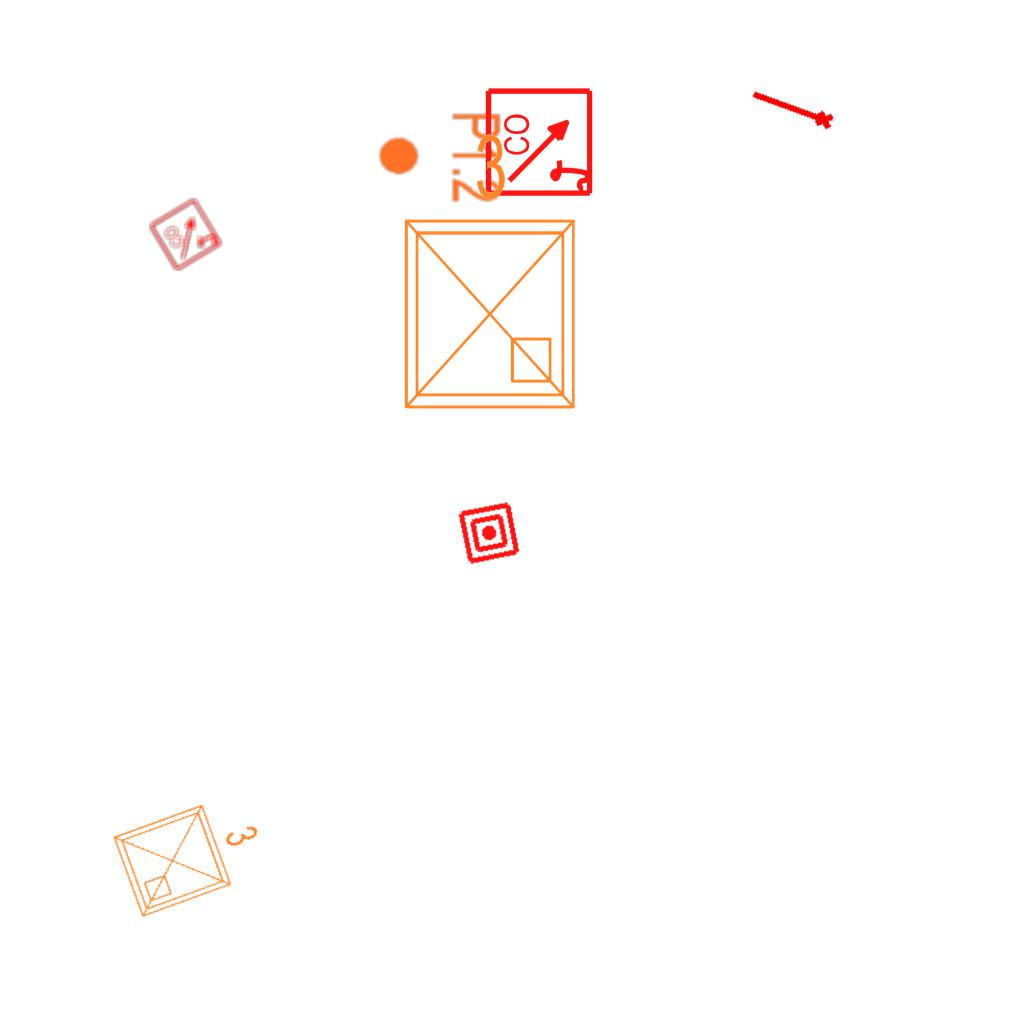ASR_Ansaugoeffnung: (746, 83, 838, 136)
Downlight_LED_Einbauleuchten_Flur: (376, 111, 504, 204)
Einbaudownlights_LED_Konferenzraeume: (382, 123, 590, 423), (102, 777, 280, 927)
NAM-Nichtautomatischer_Melder: (456, 500, 522, 566)
ROA_Rauchmelder_optisch_mit_Signalgeber_(Sockelsirene): (484, 85, 597, 198), (147, 195, 225, 273)
